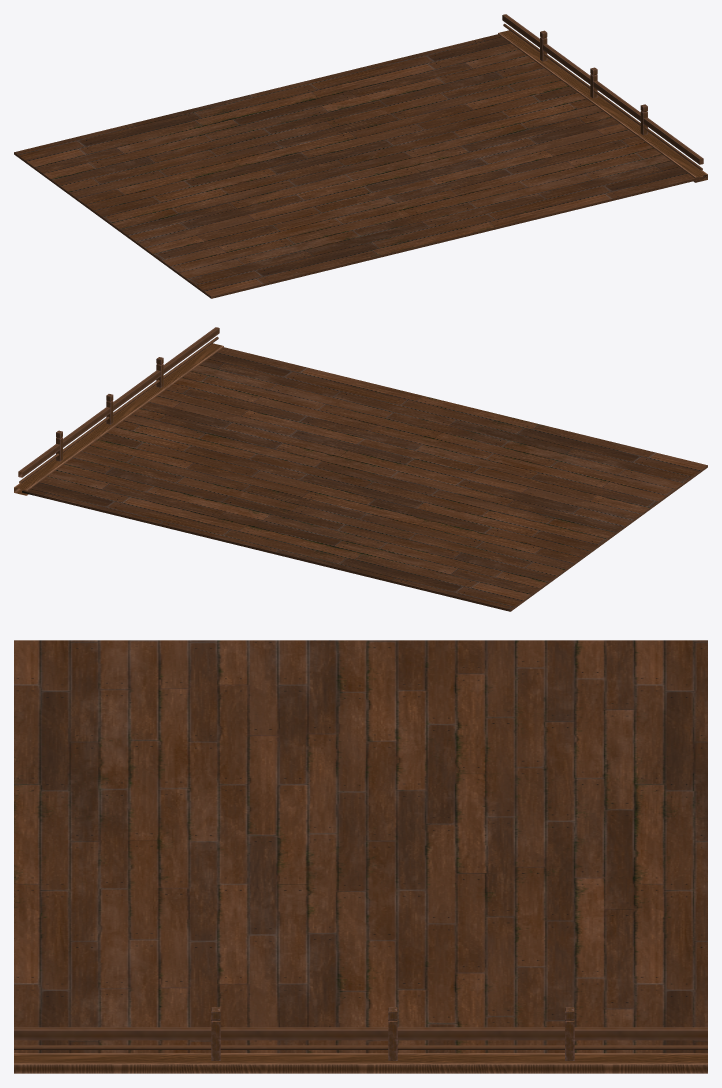
File: Floor_Out_JP_Part4.fbx
3 renders of one model, top to bottom at view 1: azimuth 30°, elevation 25°; view 2: azimuth 150°, elevation 25°; view 3: azimuth 270°, elevation 25°, orthographic. The views are drawn at different scales.
Visible parts, largest first — view 1: Floor_JP_Part4_LOD0; view 2: Floor_JP_Part4_LOD0; view 3: Floor_JP_Part4_LOD0.
Part boxes in pixels (x1,y1,x2,y2): Floor_JP_Part4_LOD0: (14,14,707,298); Floor_JP_Part4_LOD0: (14,327,707,611); Floor_JP_Part4_LOD0: (14,640,707,1073).
Size of what is drawn, in the model's own units: 855 by 55.34 by 588.
